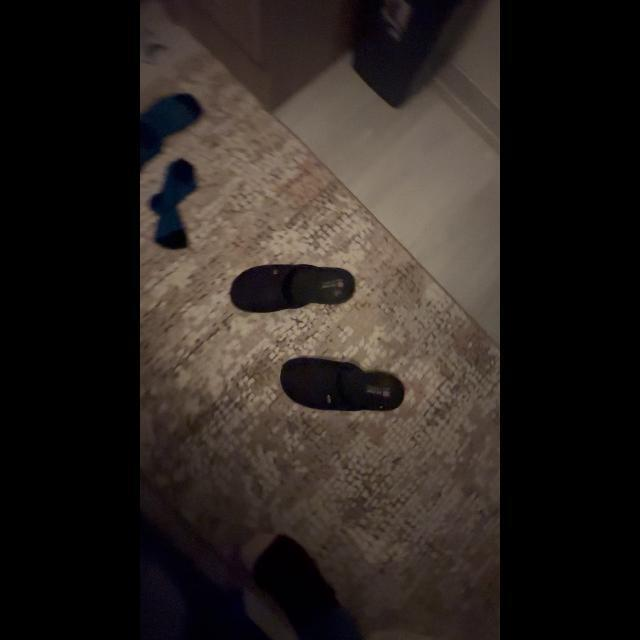slipper: (271, 351, 414, 422), (222, 257, 362, 319)
